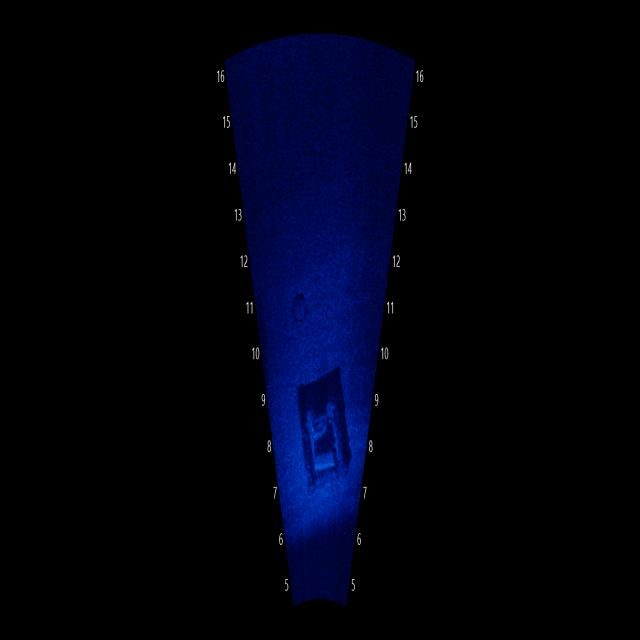square: (288, 348, 362, 487)
